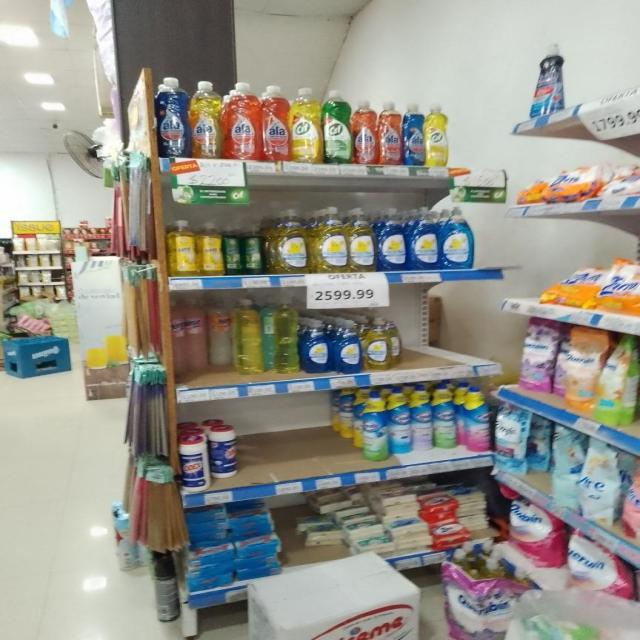ala_conc_amarillo: (189, 79, 221, 159)
ala_conc_azul: (155, 76, 188, 158), (402, 102, 424, 166)
ala_conc_rojo: (223, 82, 259, 161), (260, 84, 289, 163), (353, 99, 377, 165), (378, 100, 401, 166)
cif_conc_bot_amarilla: (290, 87, 321, 164), (426, 102, 450, 166)
cif_conc_botella_verde: (323, 90, 351, 164)
heroe: (184, 297, 207, 372), (168, 220, 198, 276), (208, 299, 232, 368), (199, 221, 223, 276), (242, 226, 264, 275), (223, 225, 243, 275)
magistral_con_amarillo: (272, 208, 310, 274), (312, 206, 347, 274), (348, 207, 375, 272), (364, 316, 389, 372), (388, 318, 402, 369)
magistral_con_azul: (440, 206, 474, 270), (408, 206, 439, 271), (377, 206, 406, 272), (301, 318, 331, 374), (333, 318, 362, 374)
